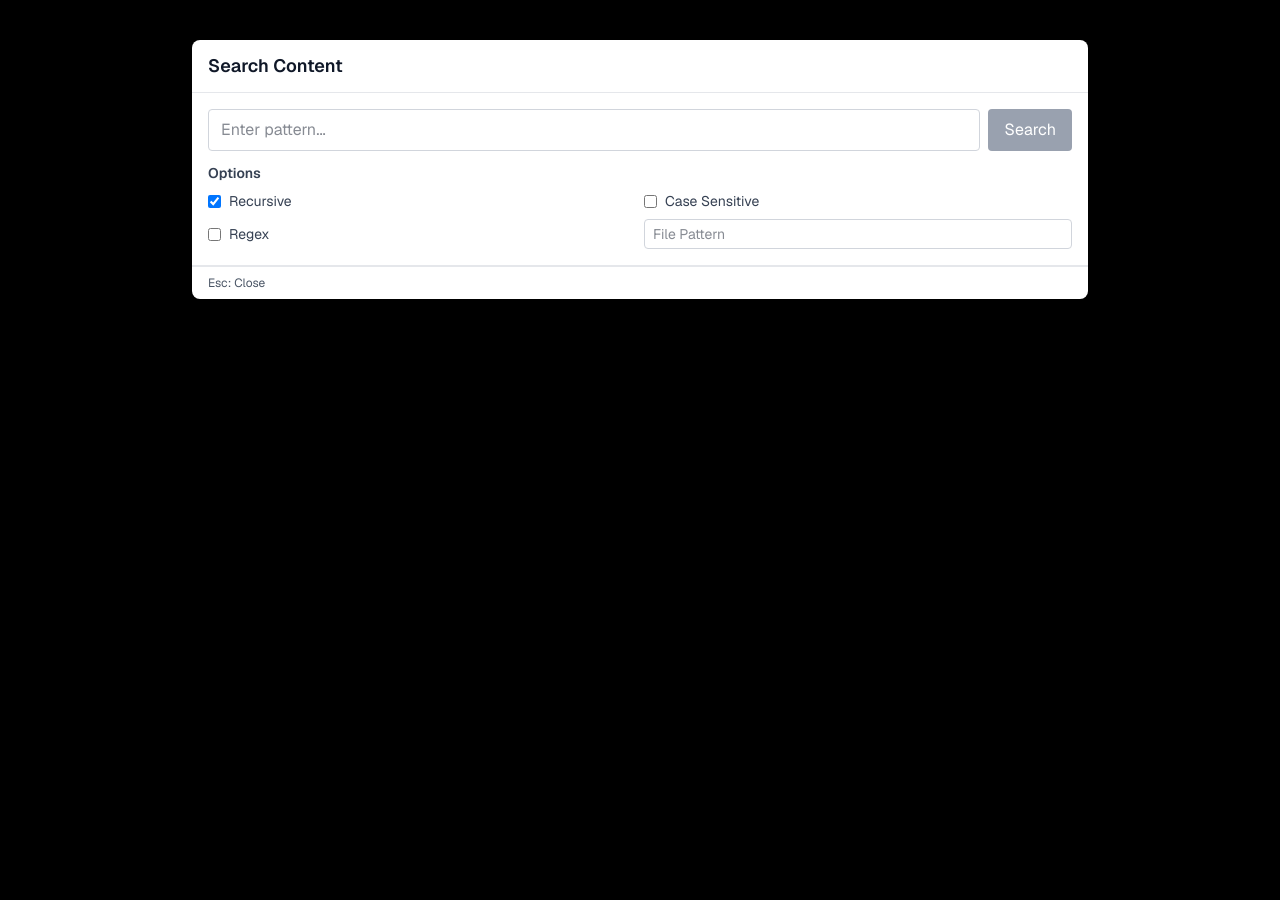
SearchDialog [TEST-FILE_SEARCH] [REQ-FILE_SEARCH] › Search Results [IMPL-FILE_SEARCH] › should display search results [REQ-FILE_SEARCH]
The image size is (1280, 900).
Type "match" into the field with placeholder "Enter pattern..." at point(594, 130), box [208,109,980,151]
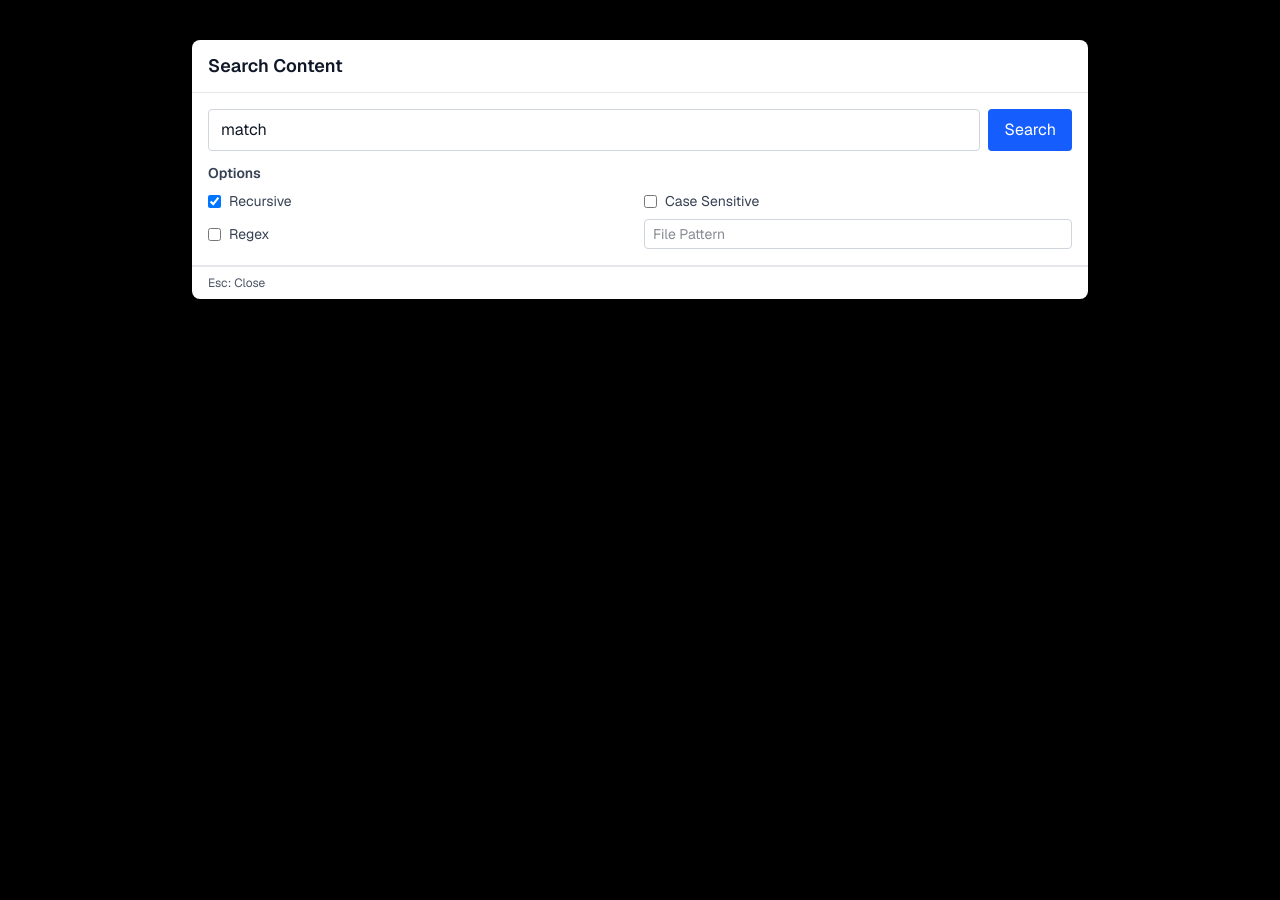
Click the button "Search" at point(1030, 130), box [988,109,1072,151]
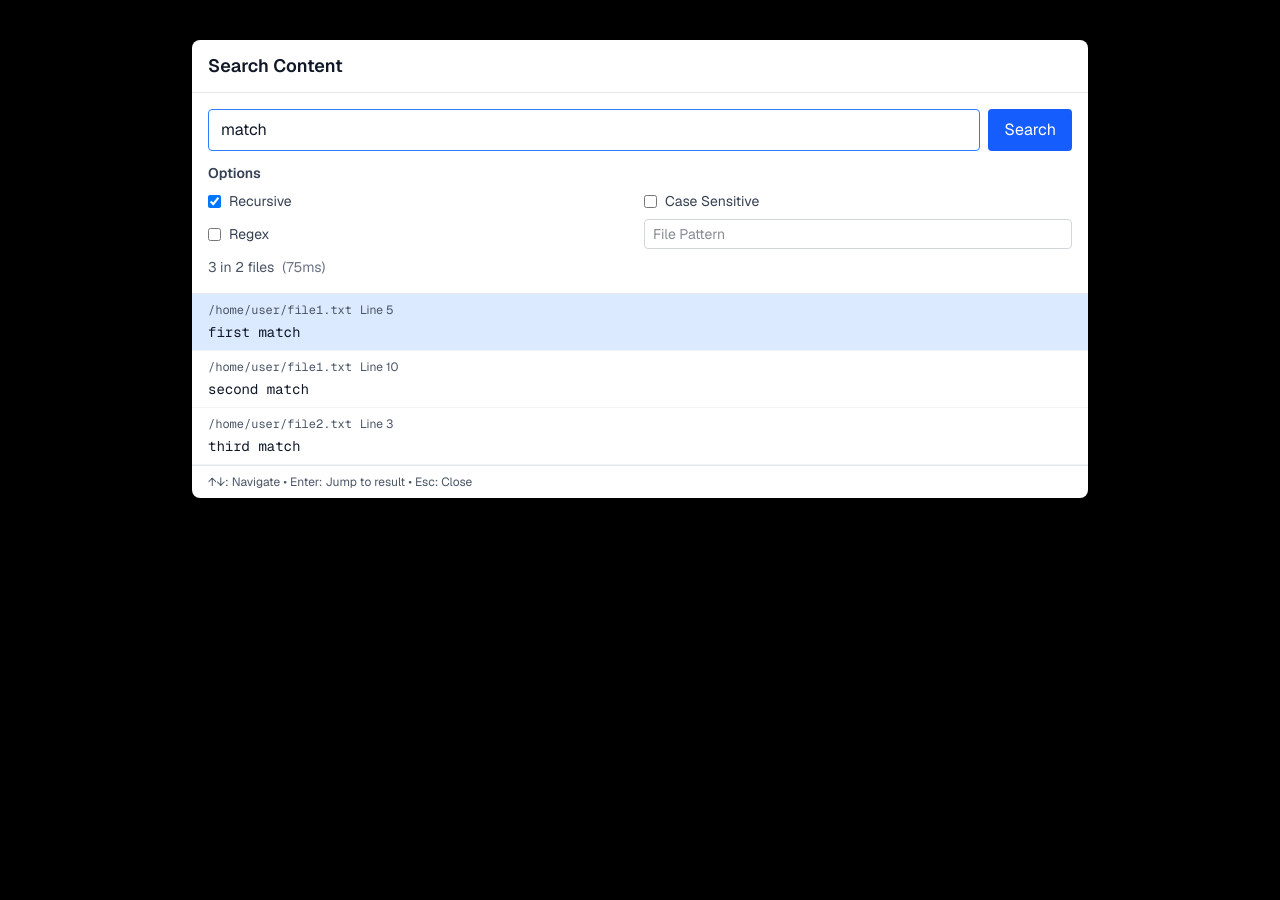
Expected: the text "first match" is shown, [208,323,300,341]
Expected: the text "second match" is shown, [208,380,309,398]
Expected: the text "third match" is shown, [208,437,300,455]
